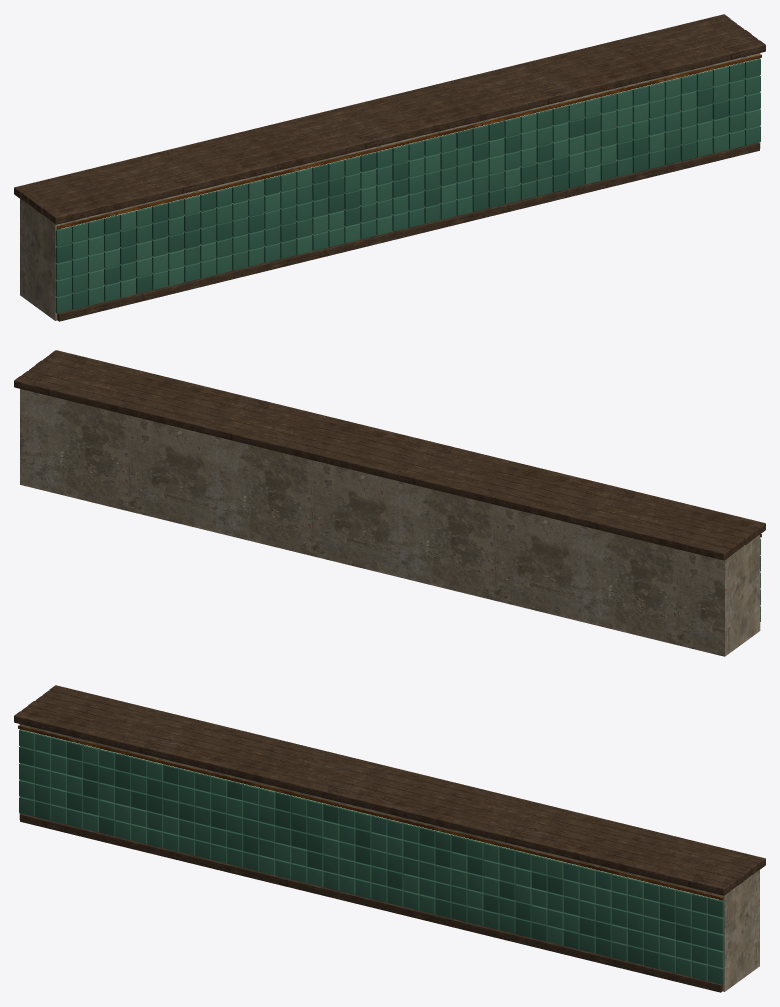
The model's file is PROP_WarmWood_FrontCounter_A.glb.
3 views of the same model, one above another, from view 1: azimuth 30°, elevation 25°; view 2: azimuth 150°, elevation 25°; view 3: azimuth 330°, elevation 25° (orthographic).
Parts seen in each view (by area): view 1: PROP_WarmWood_FrontCounter_A; view 2: PROP_WarmWood_FrontCounter_A; view 3: PROP_WarmWood_FrontCounter_A.
Part boxes in pixels (bbox=[...]): PROP_WarmWood_FrontCounter_A: bbox=[14, 14, 765, 321]; PROP_WarmWood_FrontCounter_A: bbox=[14, 350, 765, 656]; PROP_WarmWood_FrontCounter_A: bbox=[14, 685, 765, 992].
Bounding box in the file's own units: 7 × 1 × 0.718.
10 materials, 10 textured.
